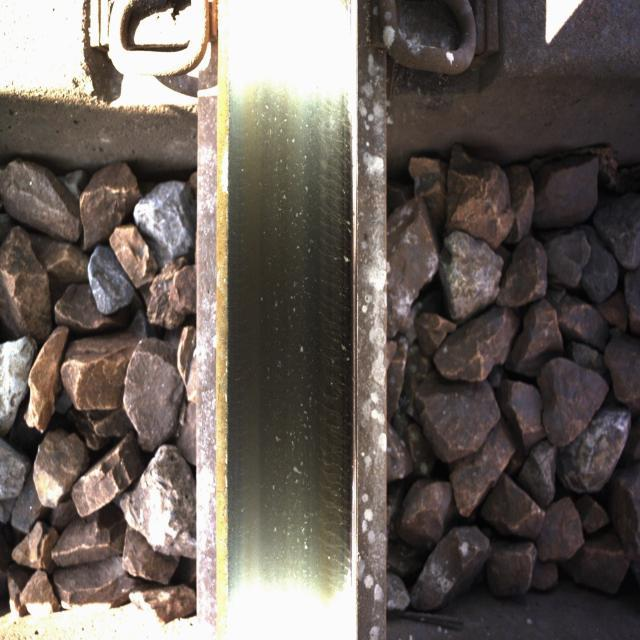normal: (231, 62, 351, 580)
